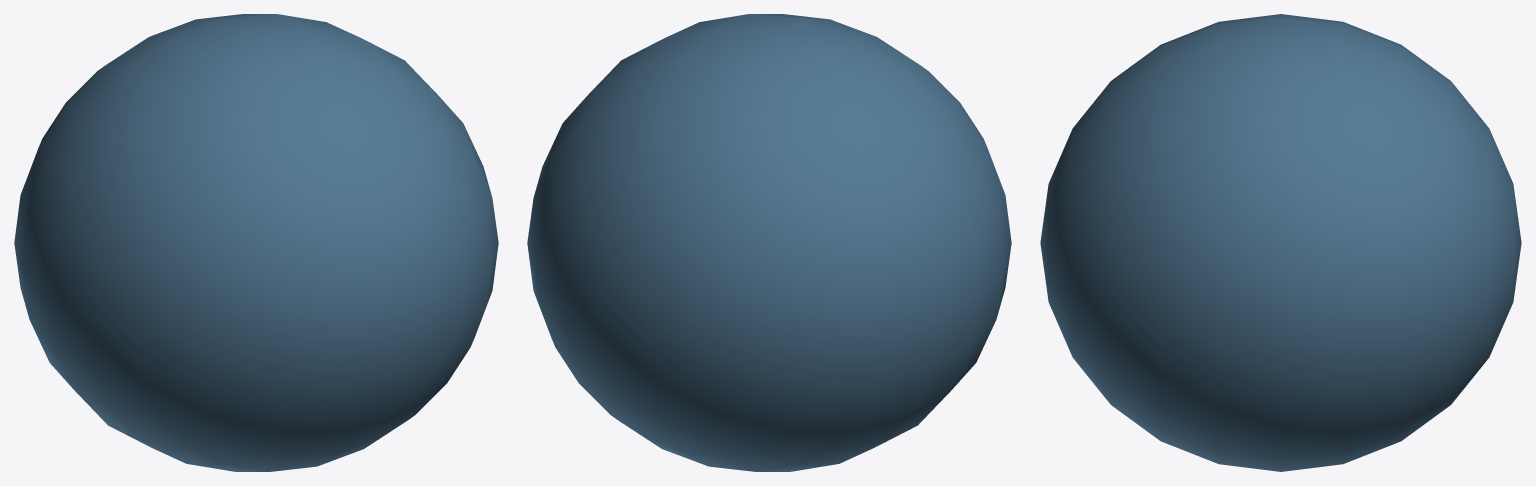
The model's file is shot_steel_ball.glb.
3 renders of one model, left to right at view 1: azimuth 30°, elevation 25°; view 2: azimuth 150°, elevation 25°; view 3: azimuth 270°, elevation 25°, orthographic.
Parts seen in each view (by area): view 1: sb_ball; view 2: sb_ball; view 3: sb_ball.
Part boxes in pixels (x1,y1,x2,y2): sb_ball: (14, 14, 498, 471); sb_ball: (527, 14, 1011, 471); sb_ball: (1040, 14, 1521, 471).
Size of the model in its own units: 10.6 by 10 by 10.6.
